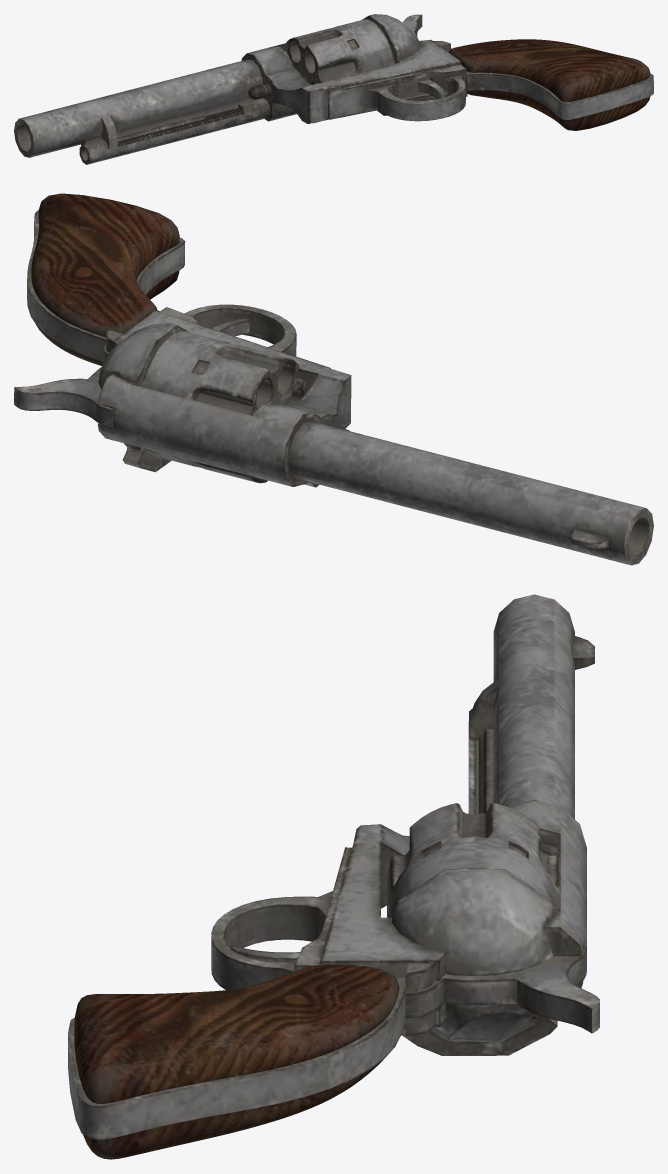
The model's file is revolver.glb.
3 renders of one model, top to bottom at view 1: azimuth 30°, elevation 25°; view 2: azimuth 150°, elevation 25°; view 3: azimuth 270°, elevation 25°, orthographic. The views are drawn at different scales.
Parts seen in each view (by area): view 1: OUT_GUN_FINAL_M_Gun_01_0; view 2: OUT_GUN_FINAL_M_Gun_01_0; view 3: OUT_GUN_FINAL_M_Gun_01_0.
Part boxes in pixels (<box>): OUT_GUN_FINAL_M_Gun_01_0: <box>14,14,653,164</box>; OUT_GUN_FINAL_M_Gun_01_0: <box>14,193,653,565</box>; OUT_GUN_FINAL_M_Gun_01_0: <box>68,594,599,1159</box>.
Bounding box in the file's own units: 1.57 × 0.2569 × 0.696.
1 material, 1 textured.
